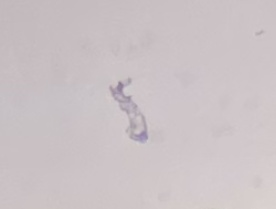microplastic: (109, 77, 148, 143)
